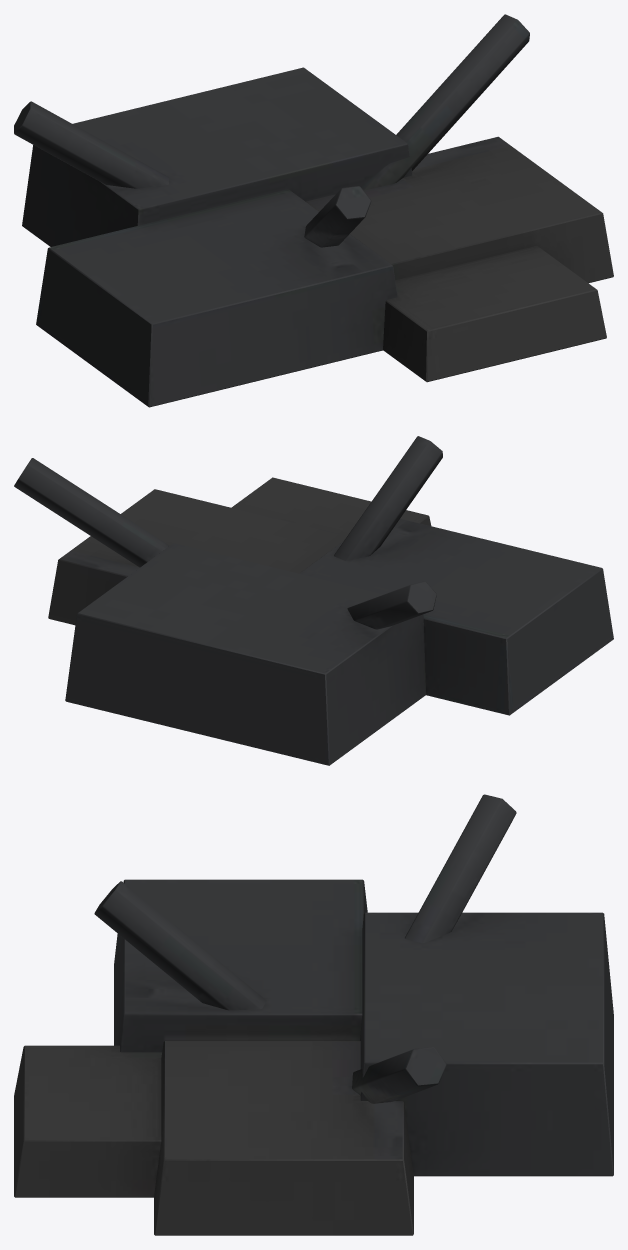
Rendered from IT_scrap_pile.glb.
3 renders of one model, top to bottom at view 1: azimuth 30°, elevation 25°; view 2: azimuth 150°, elevation 25°; view 3: azimuth 270°, elevation 25°, orthographic. The views are drawn at different scales.
Parts seen in each view (by area): view 1: IT_scrap_pile; view 2: IT_scrap_pile; view 3: IT_scrap_pile.
Boxes of the visible parts, bbox=[...] form: IT_scrap_pile: bbox=[14, 14, 613, 407]; IT_scrap_pile: bbox=[14, 436, 613, 765]; IT_scrap_pile: bbox=[14, 794, 613, 1235].
Size of the model in its own units: 0.6791 by 0.2161 by 0.5997.
1 material, 1 textured.
